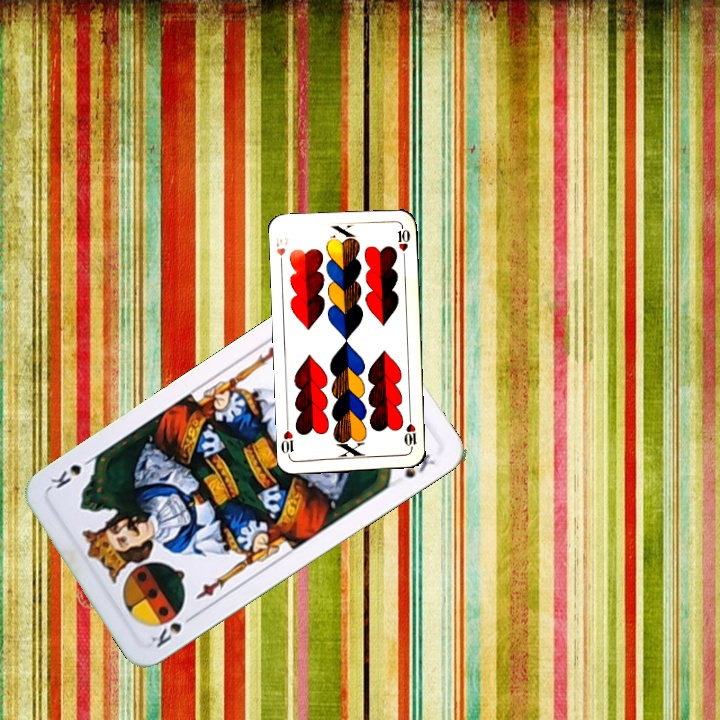H10: (400, 413, 419, 453), (272, 233, 288, 269)
SK: (146, 610, 199, 651)
